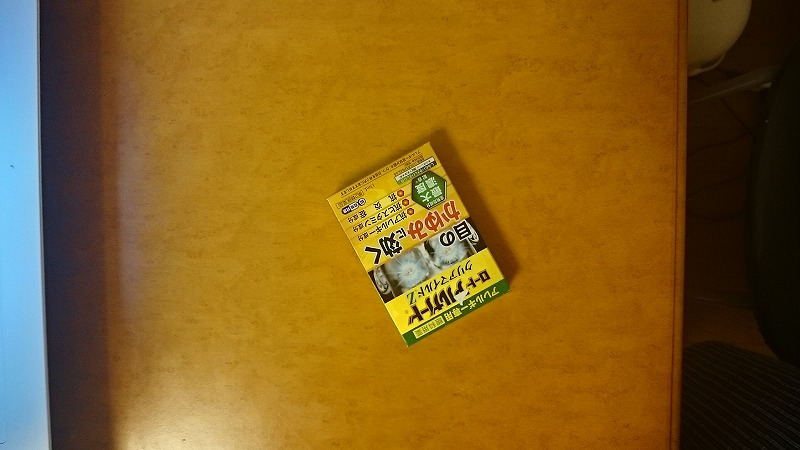C: (318, 134, 523, 350)
